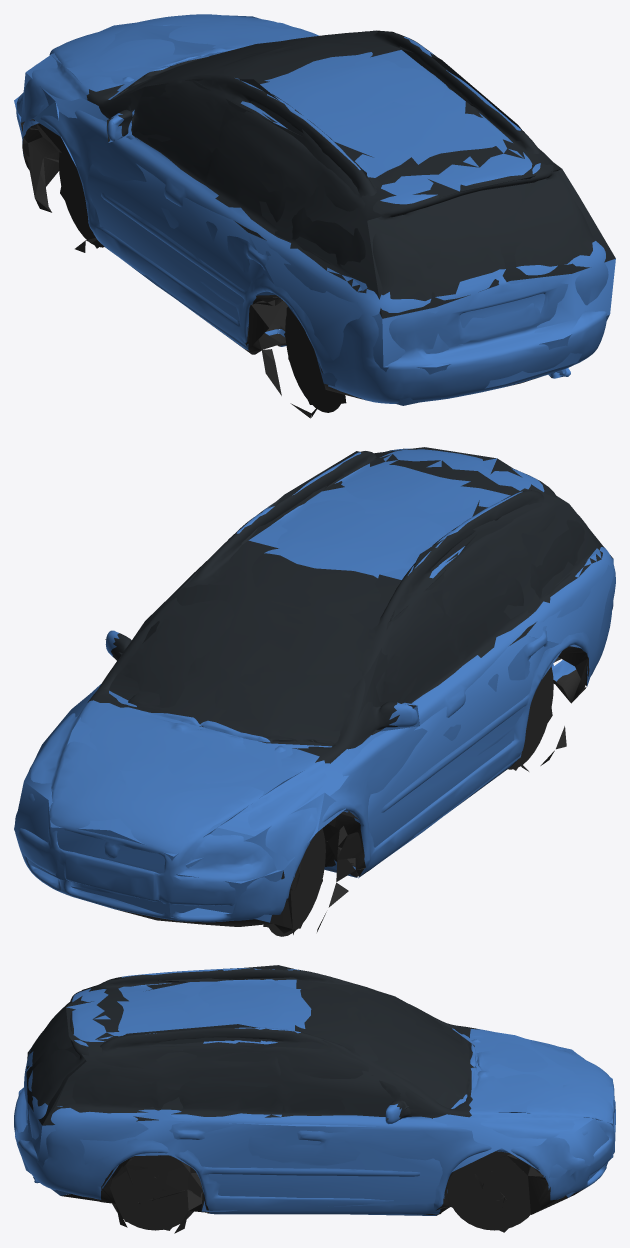
File: volvo-v50.glb
The picture shows the model from 3 angles, top to bottom: view 1: azimuth 30°, elevation 25°; view 2: azimuth 150°, elevation 25°; view 3: azimuth 270°, elevation 25°; orthographic projection. The views are drawn at different scales.
Visible parts, largest first — view 1: body, far; view 2: body, far; view 3: body, far.
Boxes of the visible parts, x1=… form: body: x1=16, y1=14, x2=608, y2=412; far: x1=14, y1=15, x2=615, y2=418; body: x1=15, y1=448, x2=615, y2=936; far: x1=14, y1=447, x2=613, y2=928; body: x1=14, y1=967, x2=615, y2=1230; far: x1=15, y1=965, x2=613, y2=1233.
Bounding box in the file's own units: 2.05 × 1.68 × 4.56.
